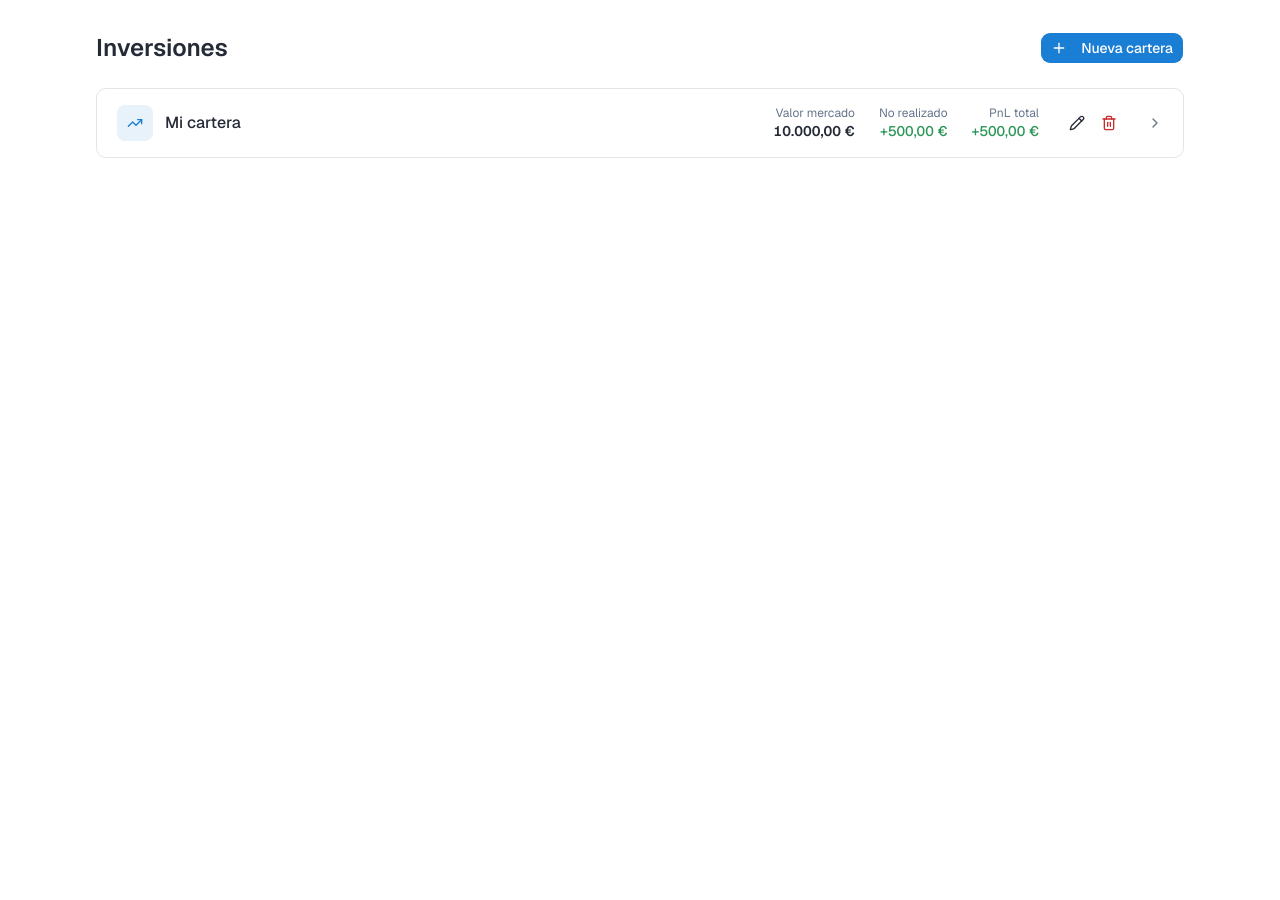
it: InvestmentsPage — card de cartera › click en "Renombrar" abre el modal y NO navega
Click the button with test id "btn-rename-portfolio".
click(1077, 123)  # box [1063, 109, 1091, 137]
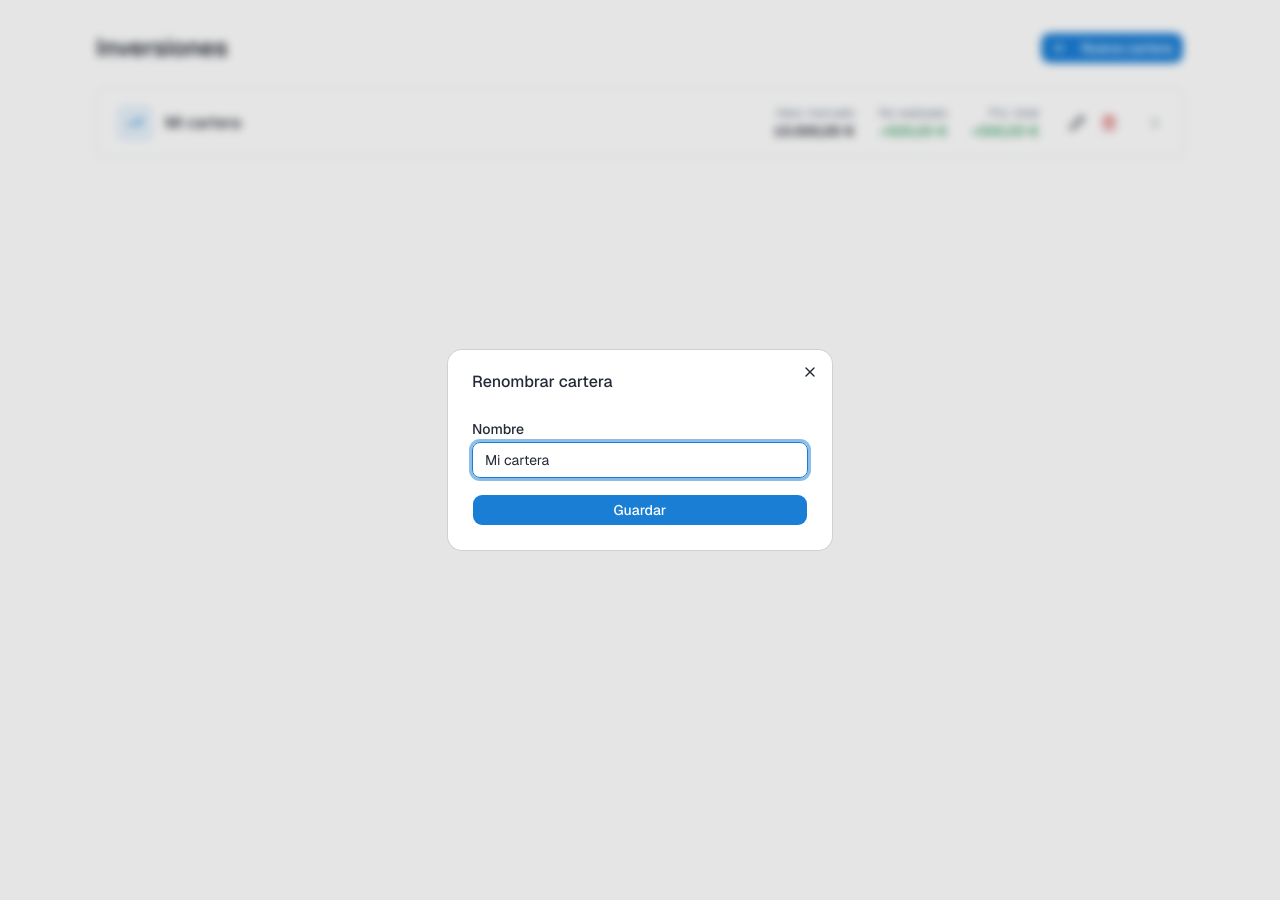
Result: the heading "Renombrar cartera" is shown at [472, 371, 612, 392]
